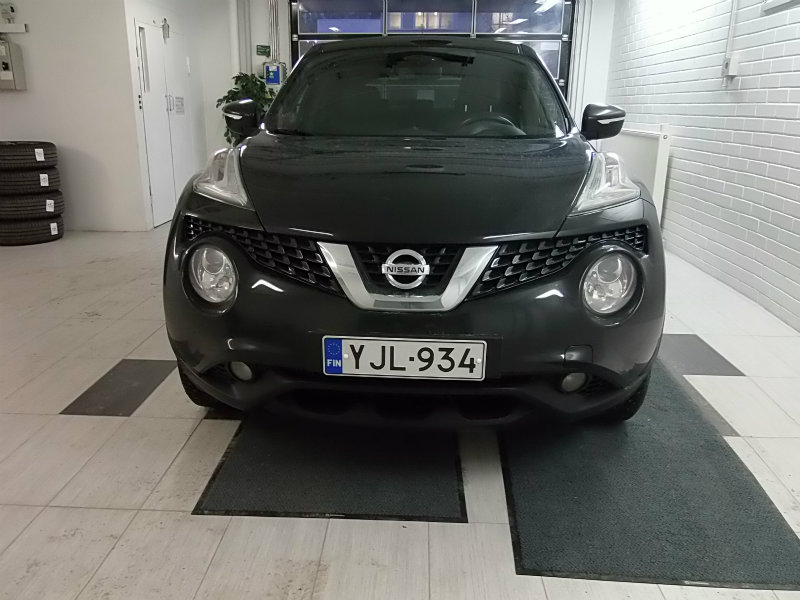license: (322, 334, 484, 379)
